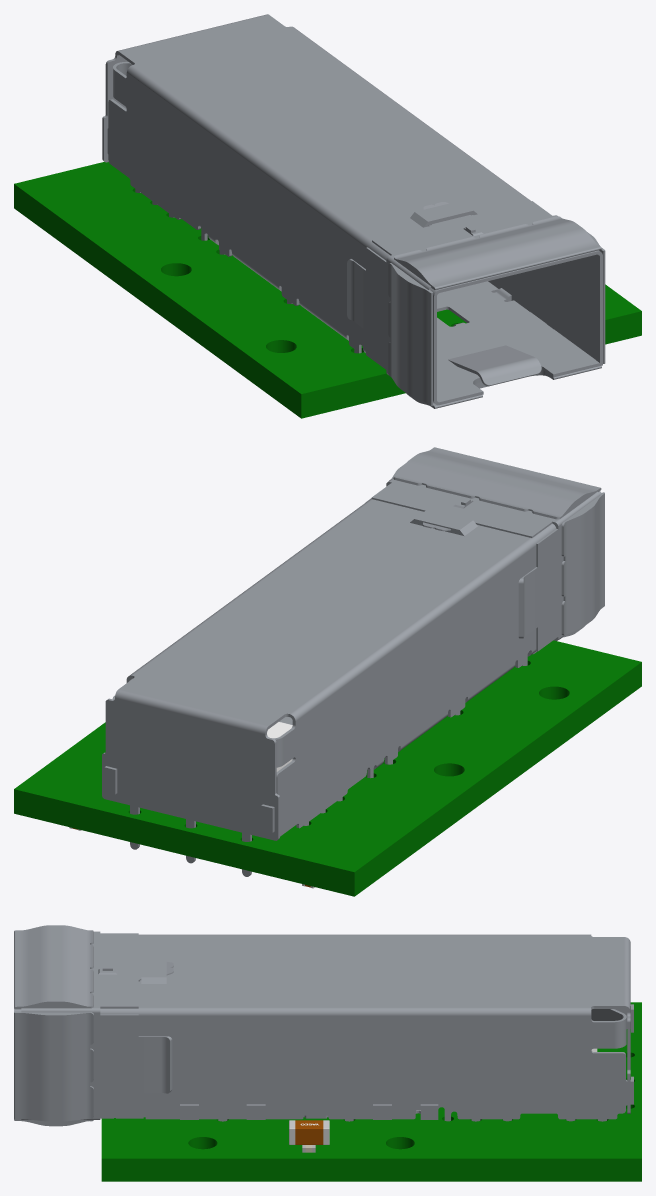
The model's file is lxfiber5.glb.
3 views of the same model, one above another, from view 1: azimuth 30°, elevation 25°; view 2: azimuth 150°, elevation 25°; view 3: azimuth 270°, elevation 25° (orthographic). The views are drawn at different scales.
Parts seen in each view (by area): view 1: PCB074, PCB076; view 2: PCB074, PCB076; view 3: PCB074, PCB076, PCB083.
Part boxes in pixels (x1,y1,x2,y2): PCB074: [102, 14, 605, 408]; PCB076: [14, 162, 641, 418]; PCB074: [102, 447, 604, 876]; PCB076: [14, 640, 641, 896]; PCB074: [14, 925, 633, 1126]; PCB076: [101, 1002, 641, 1181]; PCB083: [295, 1120, 323, 1144].
Size of the model in its own units: 0.0292 by 0.0135 by 0.0496.
